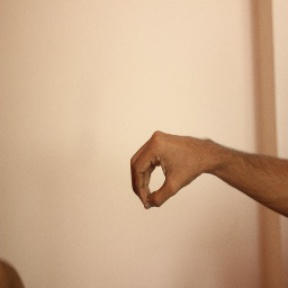O: (128, 128, 210, 212)
